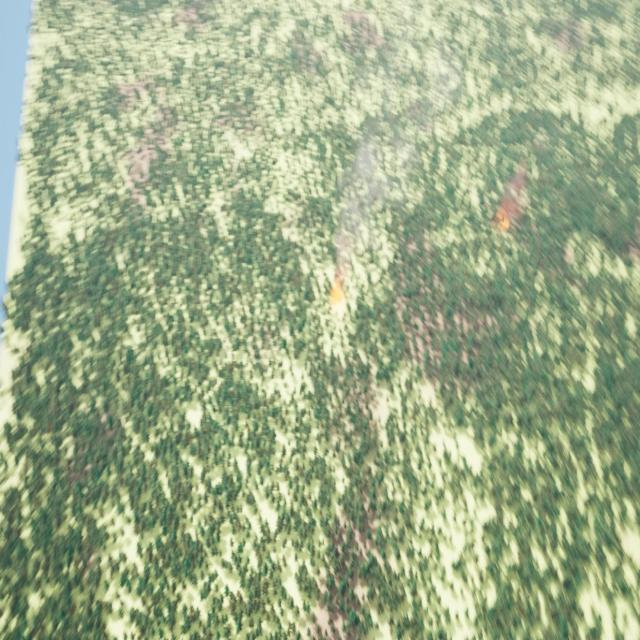fire: (496, 203, 511, 231), (329, 275, 342, 300)
smoke: (334, 147, 388, 276), (503, 168, 527, 212)
